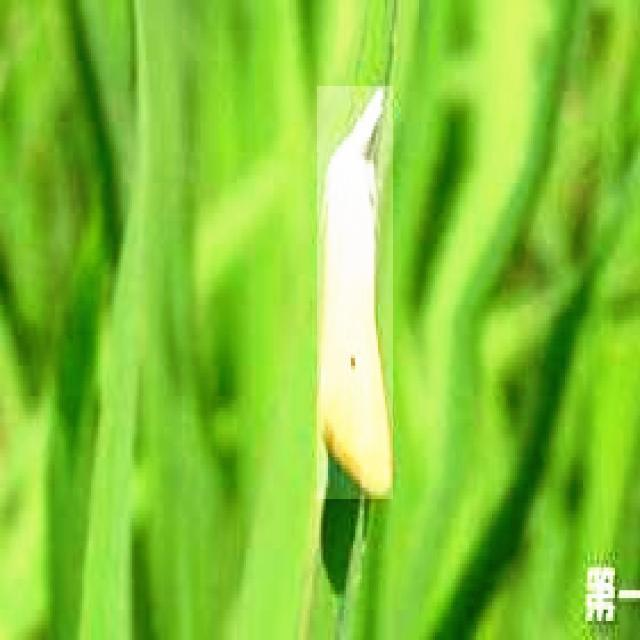stem-borer: (317, 86, 393, 499)
